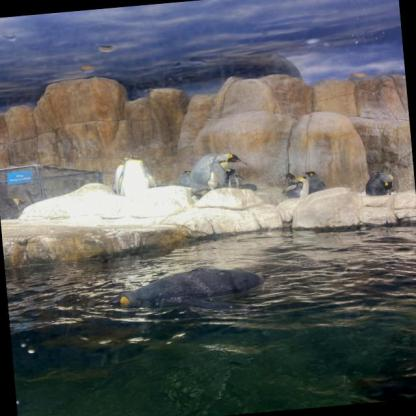penguin: (92, 263, 273, 322), (189, 146, 239, 198), (117, 153, 155, 193), (104, 151, 132, 194), (362, 167, 396, 198), (224, 163, 254, 196), (292, 171, 314, 199), (304, 166, 324, 196), (179, 166, 197, 192), (286, 170, 300, 196)
